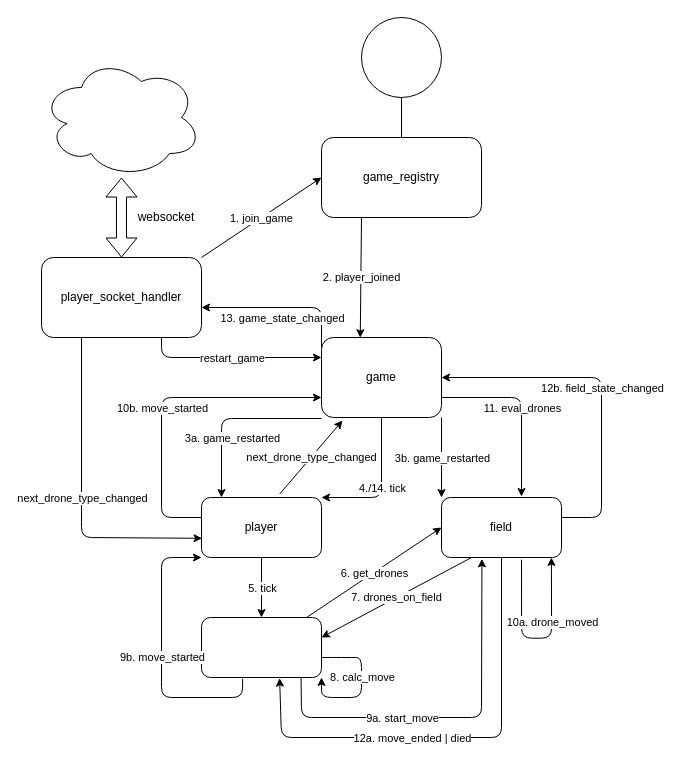
The diagram is 681 pixels wide and 763 high, and some of its shapes have lost their labels. The box of each missing label's shape, as (x1, y1, x2, y2) in pixels:
client/browser: (40, 56, 202, 178)
drone: (200, 616, 322, 678)
init: (360, 16, 442, 98)
